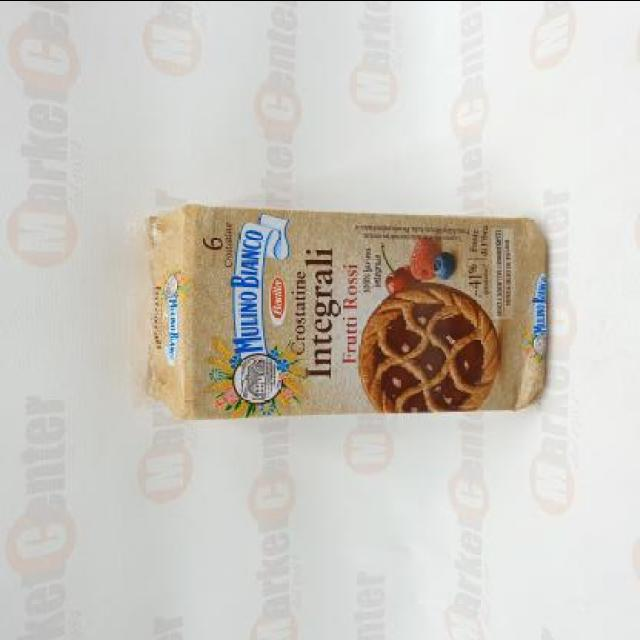Merendine: (146, 191, 562, 437)
